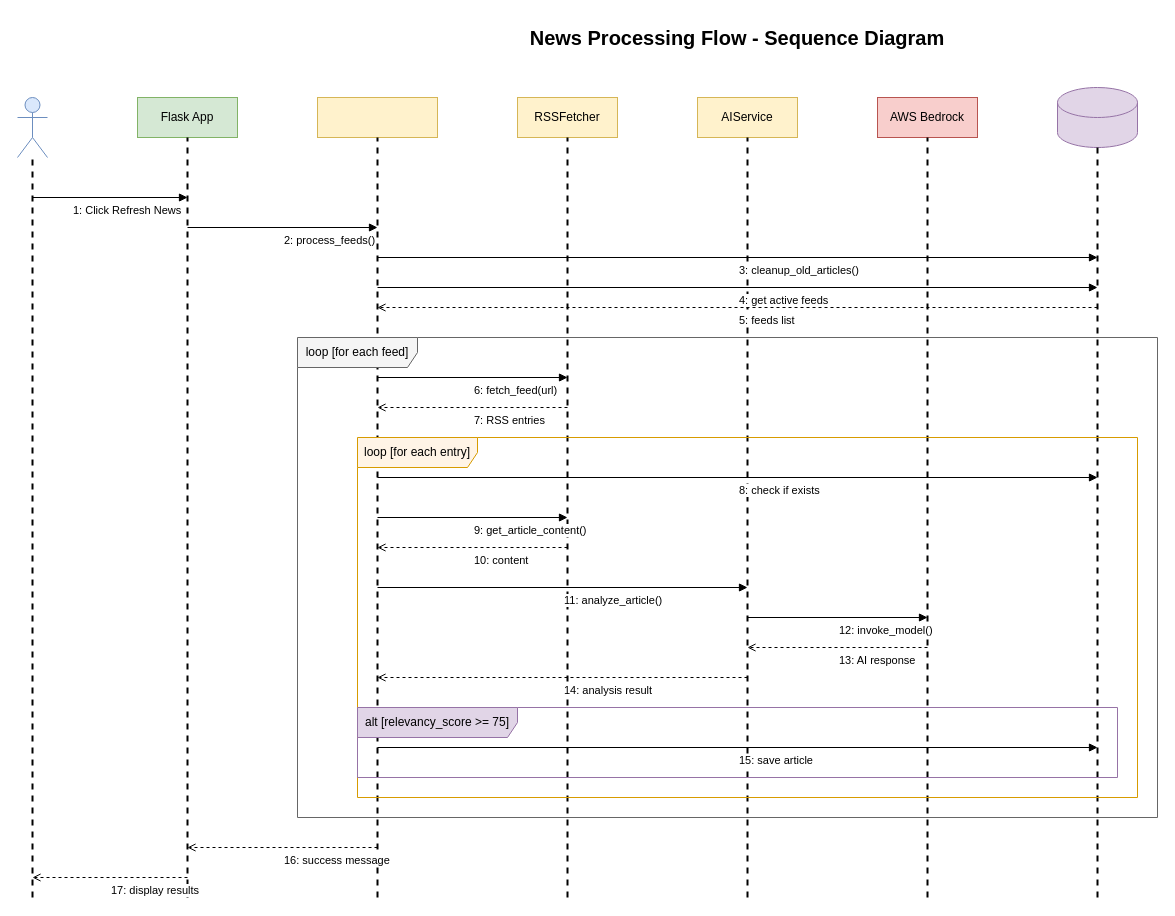
This 1175x916 diagram has some shape labels left out. Here are the shapes that lost their labels. From the top down, the centre of each, then its label:
(x=32, y=127): User
(x=377, y=117): NewsProcessor
(x=1097, y=117): Database
